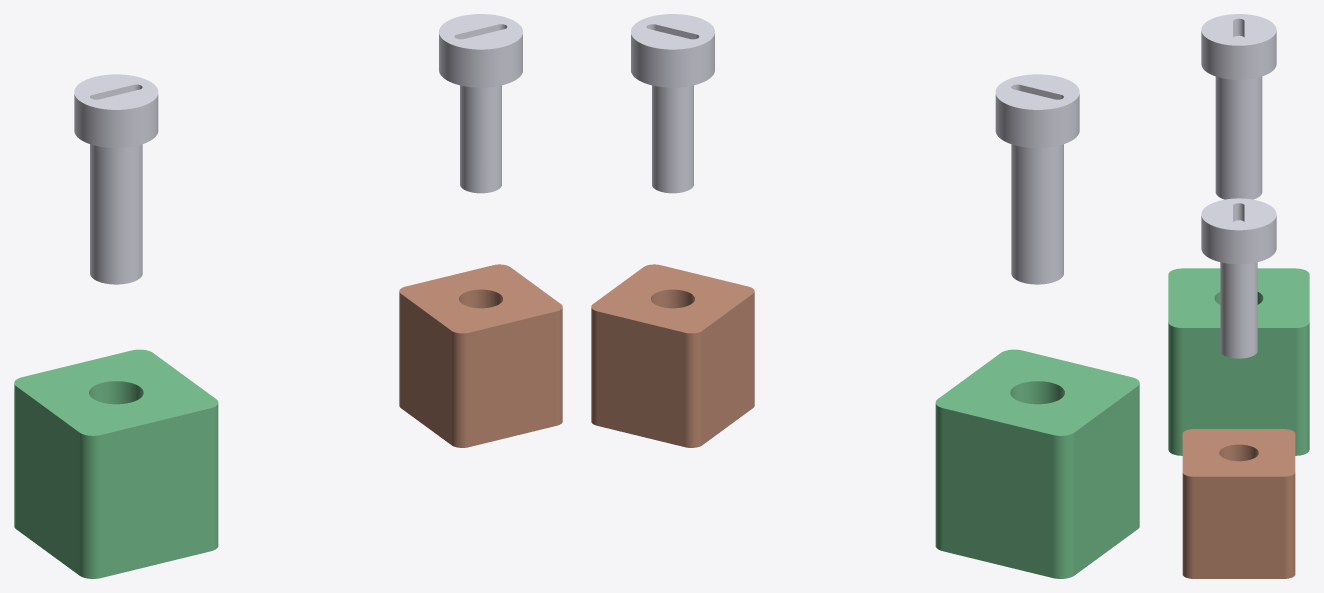
File: ic_ice_montaj_delikli_ornegi.gltf
The picture shows the model from 3 angles, left to right: view 1: azimuth 30°, elevation 25°; view 2: azimuth 150°, elevation 25°; view 3: azimuth 270°, elevation 25°; orthographic projection. The views are drawn at different scales.
Visible parts, largest first — view 1: destek1_part, destek2_part, vida1_part, vida2_part; view 2: destek1_part, destek2_part, vida1_part, vida2_part; view 3: destek1_part, destek2_part, vida1_part, vida2_part.
Part boxes in pixels (bbox=[...]): destek1_part: bbox=[14, 349, 218, 578]; destek2_part: bbox=[399, 264, 562, 447]; vida1_part: bbox=[74, 74, 158, 284]; vida2_part: bbox=[439, 14, 522, 193]; destek1_part: bbox=[935, 349, 1139, 578]; destek2_part: bbox=[591, 264, 754, 447]; vida1_part: bbox=[995, 74, 1079, 284]; vida2_part: bbox=[631, 14, 714, 193]; destek1_part: bbox=[1168, 268, 1309, 455]; destek2_part: bbox=[1182, 429, 1295, 578]; vida1_part: bbox=[1201, 14, 1276, 199]; vida2_part: bbox=[1201, 198, 1276, 358].
Bounding box in the file's own units: 53.5 × 46.5 × 15.
